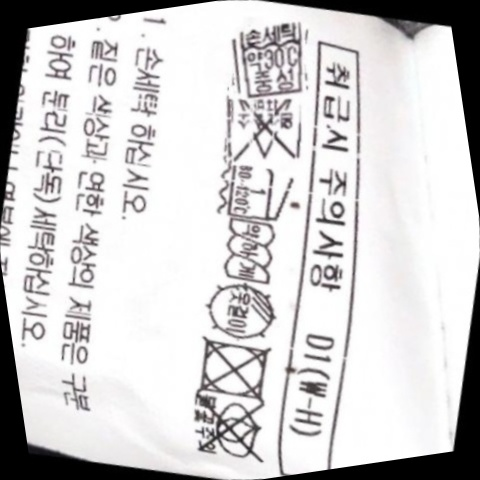DN_tumble_dry: (181, 324, 284, 412)
hand_wash: (221, 13, 320, 106)
iron_low: (214, 153, 299, 232)
line_dry_in_shade: (194, 271, 290, 351)
wring: (211, 211, 286, 293)
